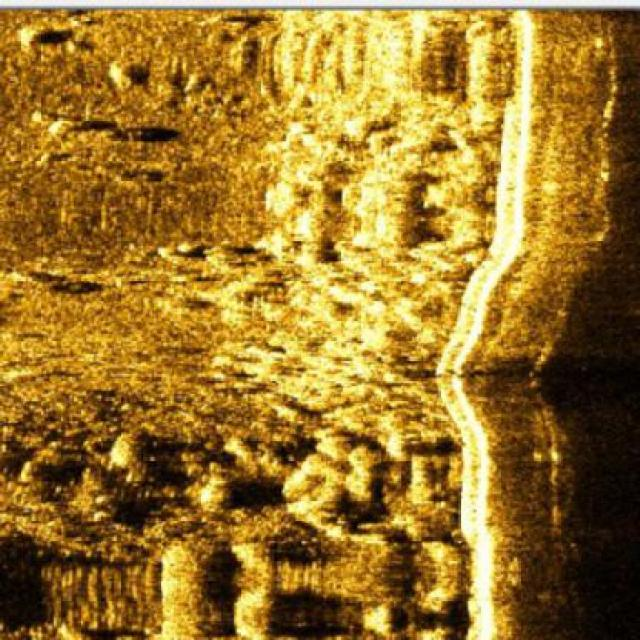bedrock group: (212, 6, 510, 640)
